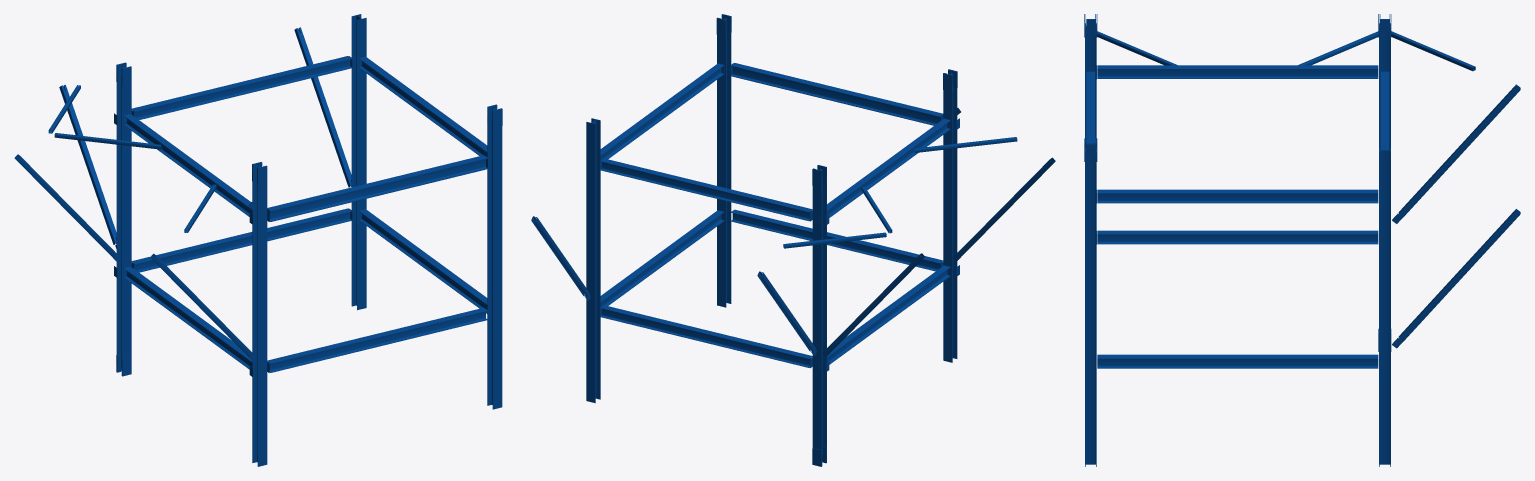
File: GCC-AAV-13220-30.nwd(72).fbx
3 renders of one model, left to right at view 1: azimuth 30°, elevation 25°; view 2: azimuth 150°, elevation 25°; view 3: azimuth 270°, elevation 25°, orthographic. The views are drawn at different scales.
Visible parts, largest first — view 1: Группа фасетов (×17); view 2: Группа фасетов (×18); view 3: Группа фасетов (×15).
Part boxes in pixels (bbox=[...]): Группа фасетов (×17): bbox=[14, 14, 502, 466]; Группа фасетов (×18): bbox=[531, 24, 1055, 457]; Группа фасетов (×15): bbox=[1085, 23, 1520, 466].
Bounding box in the file's own units: 583 × 492 × 584.
